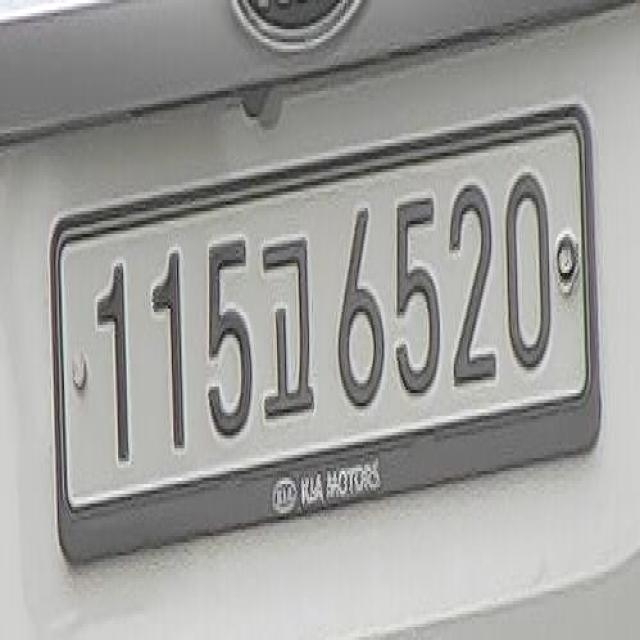illegal_plate: (40, 110, 608, 557)
